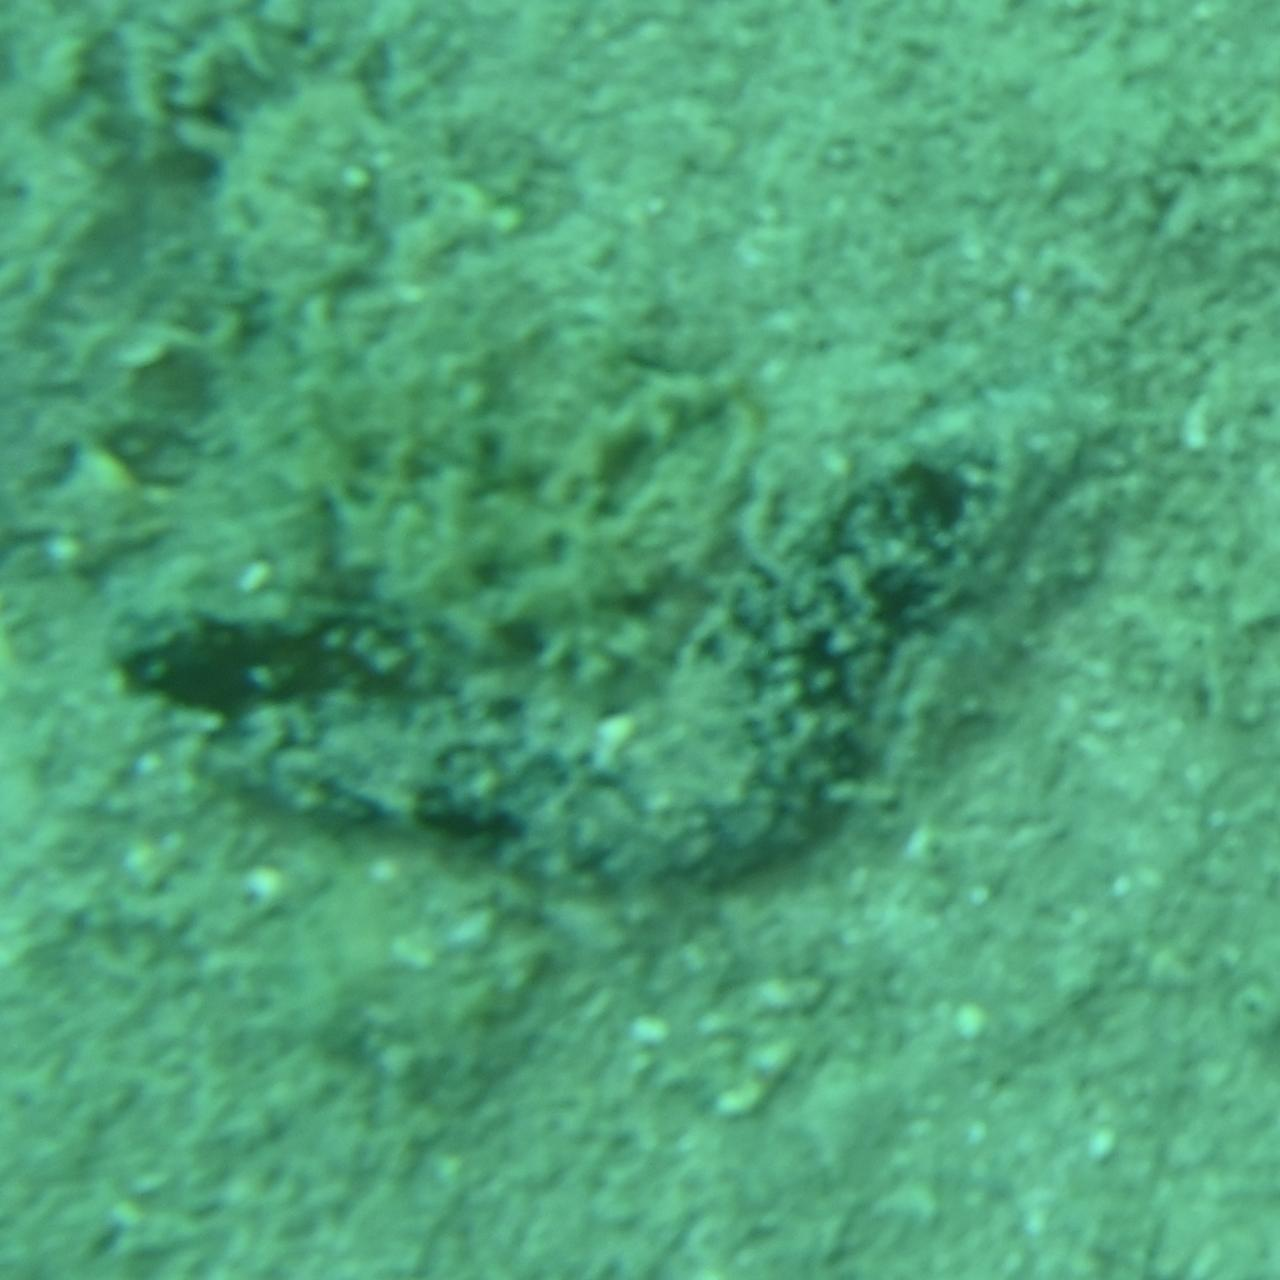Holothuria tubulosa: (166, 378, 1114, 902)
